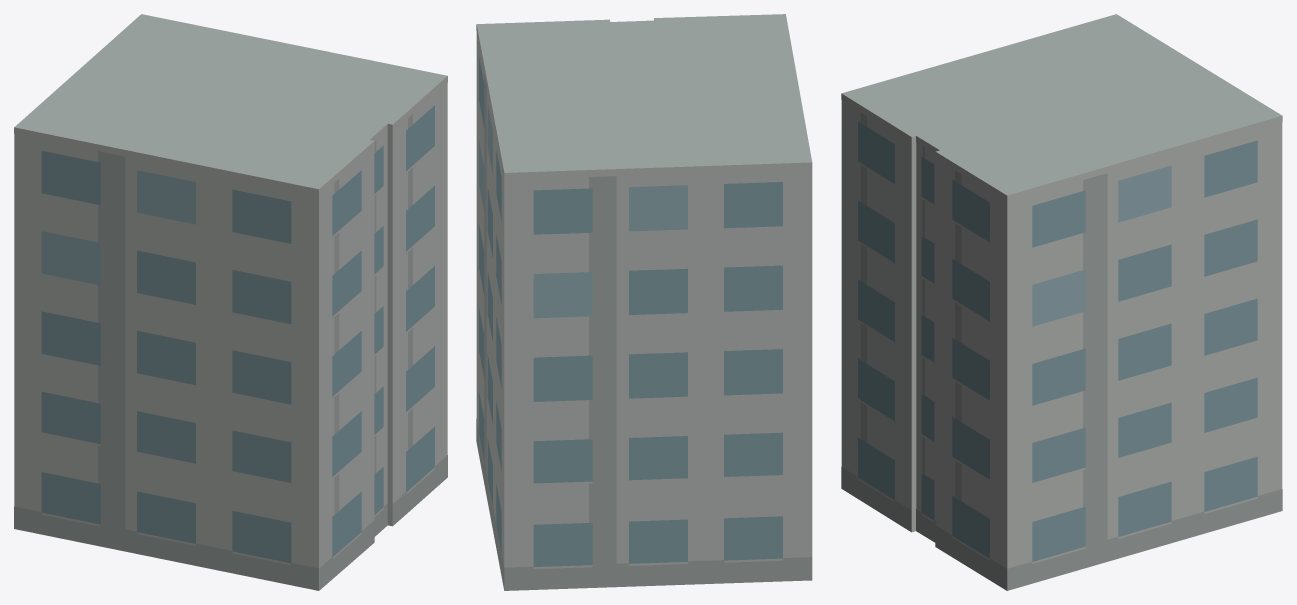
Rendered from survey-upis-32886701.glb.
3 views of the same model, side by side, from view 1: azimuth 30°, elevation 25°; view 2: azimuth 150°, elevation 25°; view 3: azimuth 270°, elevation 25° (orthographic). The views are drawn at different scales.
Visible parts, largest first — view 1: survey-upis-32886701.tmp; view 2: survey-upis-32886701.tmp; view 3: survey-upis-32886701.tmp.
Boxes of the visible parts, bbox=[...] form: survey-upis-32886701.tmp: bbox=[14, 14, 447, 590]; survey-upis-32886701.tmp: bbox=[476, 14, 812, 590]; survey-upis-32886701.tmp: bbox=[841, 14, 1282, 590].
Bounding box in the file's own units: 14.29 × 14.5 × 14.67.
